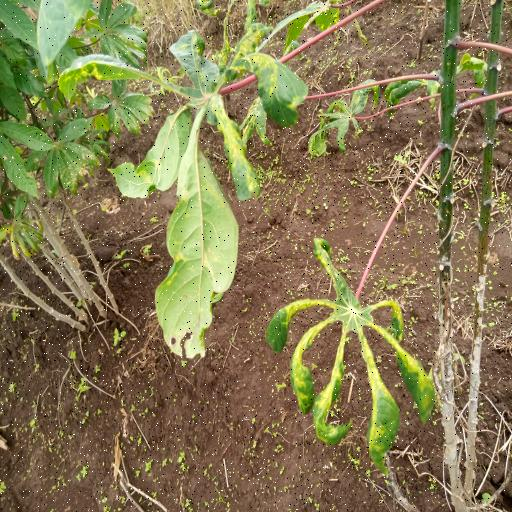Cassava_Mosaic: (58, 8, 313, 329), (265, 236, 430, 456)
